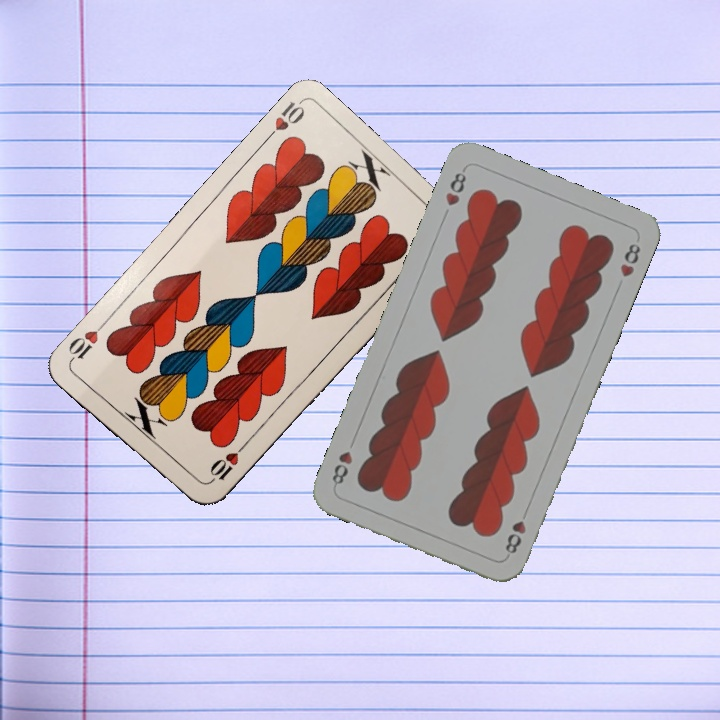H10: (259, 97, 308, 146), (204, 439, 249, 487)
H8: (501, 503, 532, 559), (441, 164, 469, 209)
